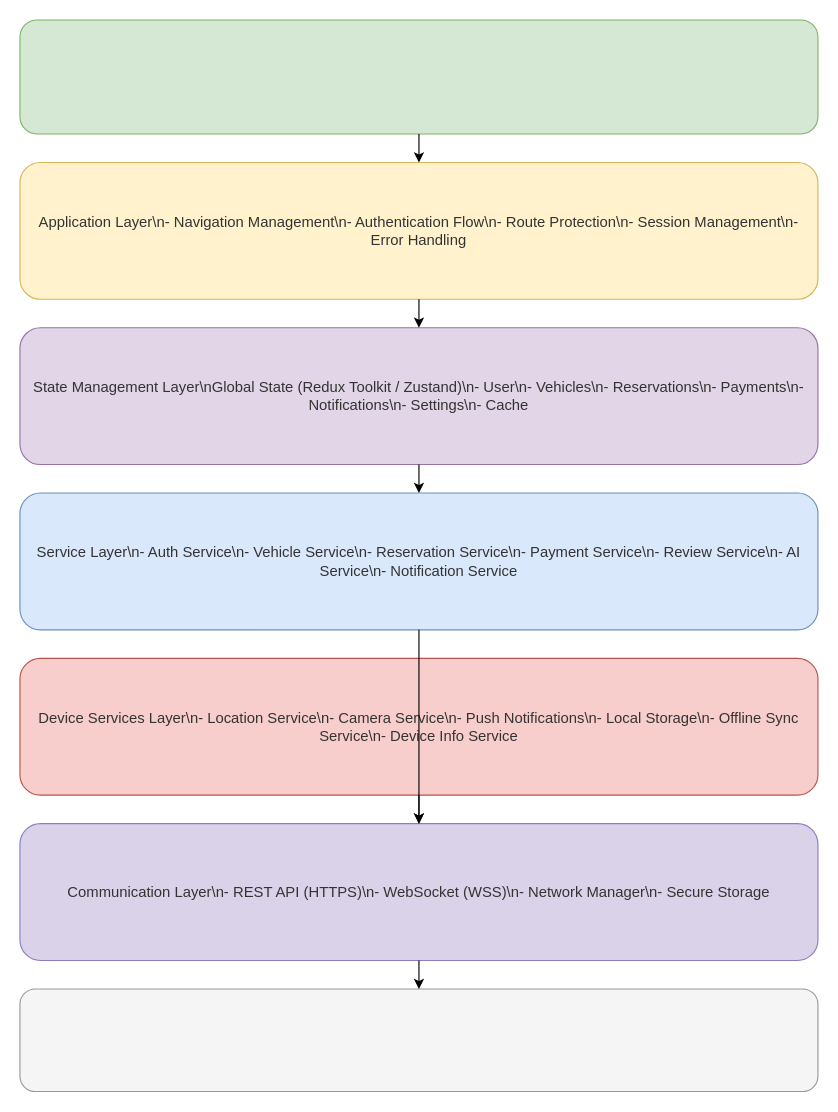
This 838x1112 diagram has some shape labels left out. Each missing label, with the centre of its shape:
Backend API (NestJS)\nBusiness Services, Authentication, Database, File Storage: the point at 418,1040
Mobile UI (React Native Components): the point at 418,76
